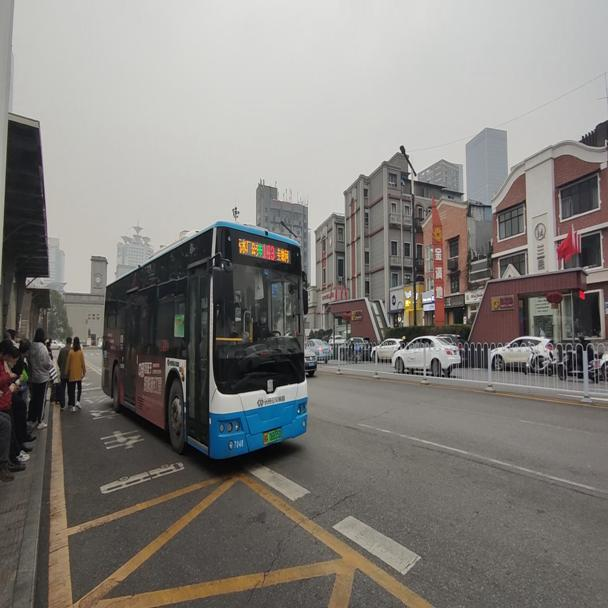bus: (101, 218, 309, 457)
screen: (261, 234, 274, 261)
